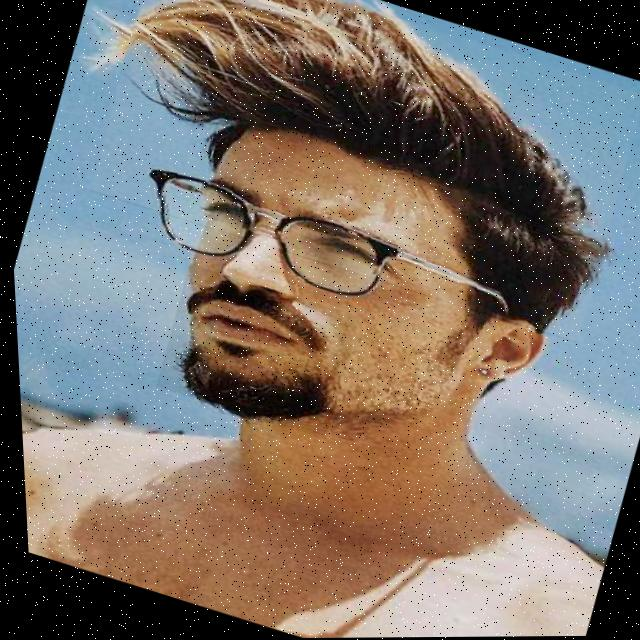beard: (164, 283, 333, 421)
hair: (132, 0, 592, 321)
